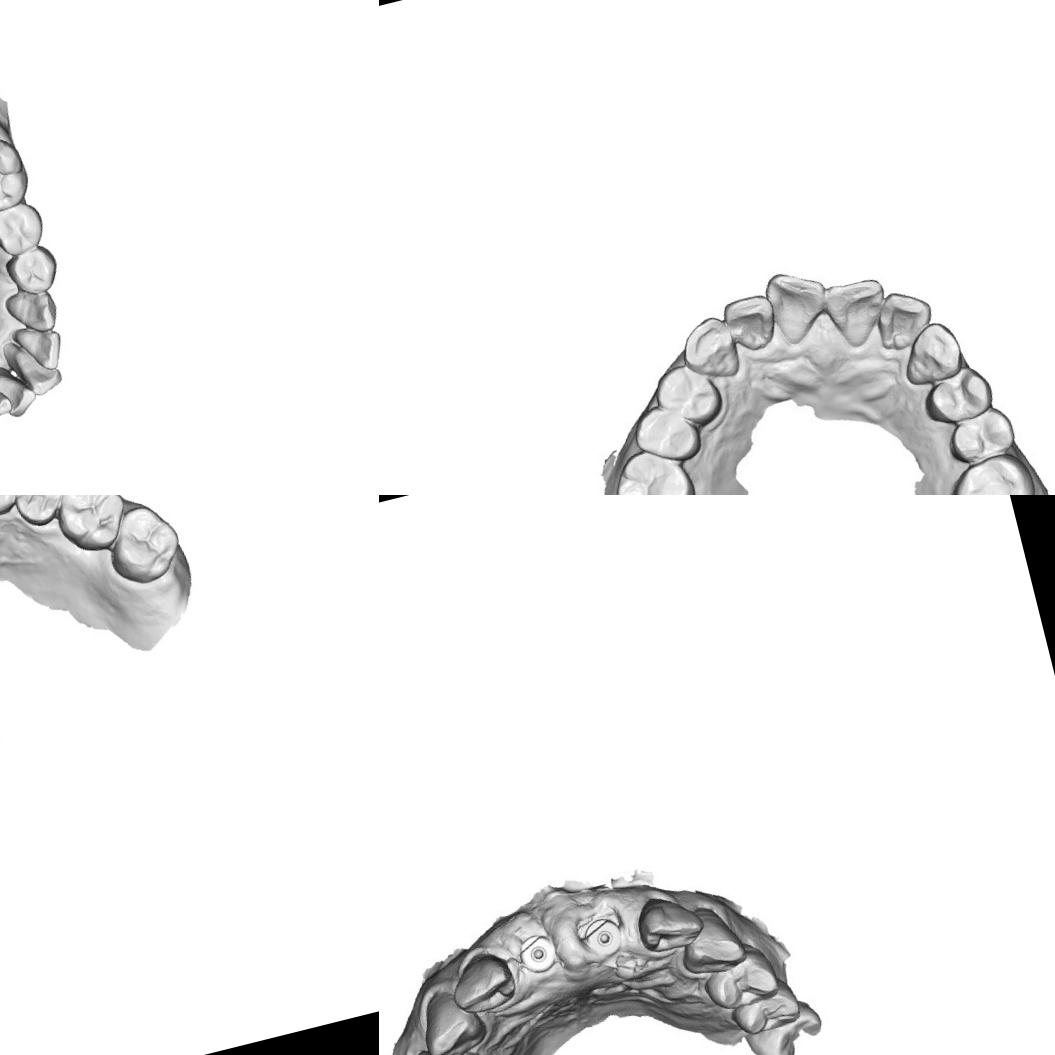canine: (673, 900, 753, 982), (673, 312, 746, 386), (895, 318, 966, 386), (419, 991, 484, 1055), (0, 282, 61, 340)
implant: (578, 907, 628, 962), (516, 931, 560, 974)
incisor: (817, 272, 889, 347), (760, 267, 830, 344), (448, 950, 520, 1018), (868, 284, 938, 348), (634, 892, 698, 950), (721, 294, 780, 354), (15, 347, 65, 399), (24, 327, 68, 373), (0, 372, 40, 419), (0, 368, 14, 424)
molar: (98, 498, 187, 591), (46, 495, 133, 558), (943, 449, 1039, 495), (608, 449, 689, 495), (0, 128, 35, 219)
premolar: (704, 951, 782, 1019), (940, 404, 1024, 466), (653, 359, 724, 430), (917, 363, 995, 425), (732, 984, 807, 1040), (636, 402, 700, 464), (0, 240, 63, 301), (0, 197, 49, 260), (6, 495, 76, 530), (409, 1041, 487, 1055)
